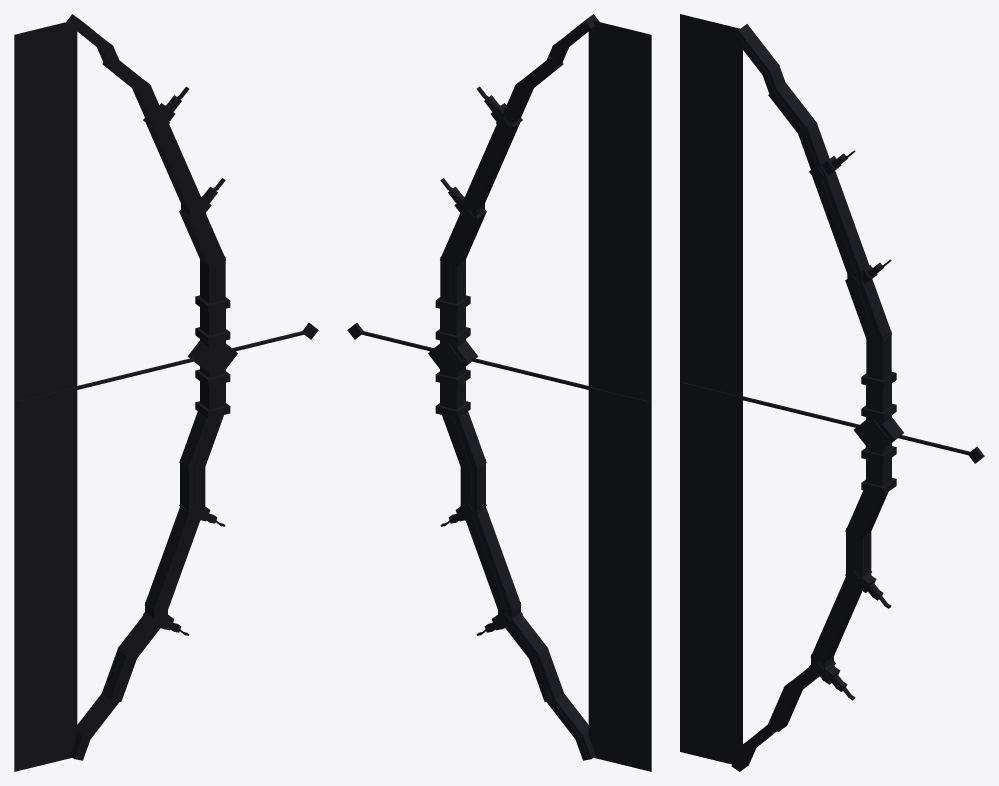
Rendered from requiem_shortbow_pulling_1_smooth.obj.
3 renders of one model, left to right at view 1: azimuth 30°, elevation 25°; view 2: azimuth 150°, elevation 25°; view 3: azimuth 330°, elevation 25°, orthographic.
Parts seen in each view (by area): view 1: requiem_shortbow_pulling_1; view 2: requiem_shortbow_pulling_1; view 3: requiem_shortbow_pulling_1.
Boxes of the visible parts, x1,y1,x2,y2 form: requiem_shortbow_pulling_1: (14, 14, 318, 771); requiem_shortbow_pulling_1: (347, 14, 651, 771); requiem_shortbow_pulling_1: (680, 14, 984, 771).
Size of the model in its own units: 0.9756 by 2.28 by 0.0717.
